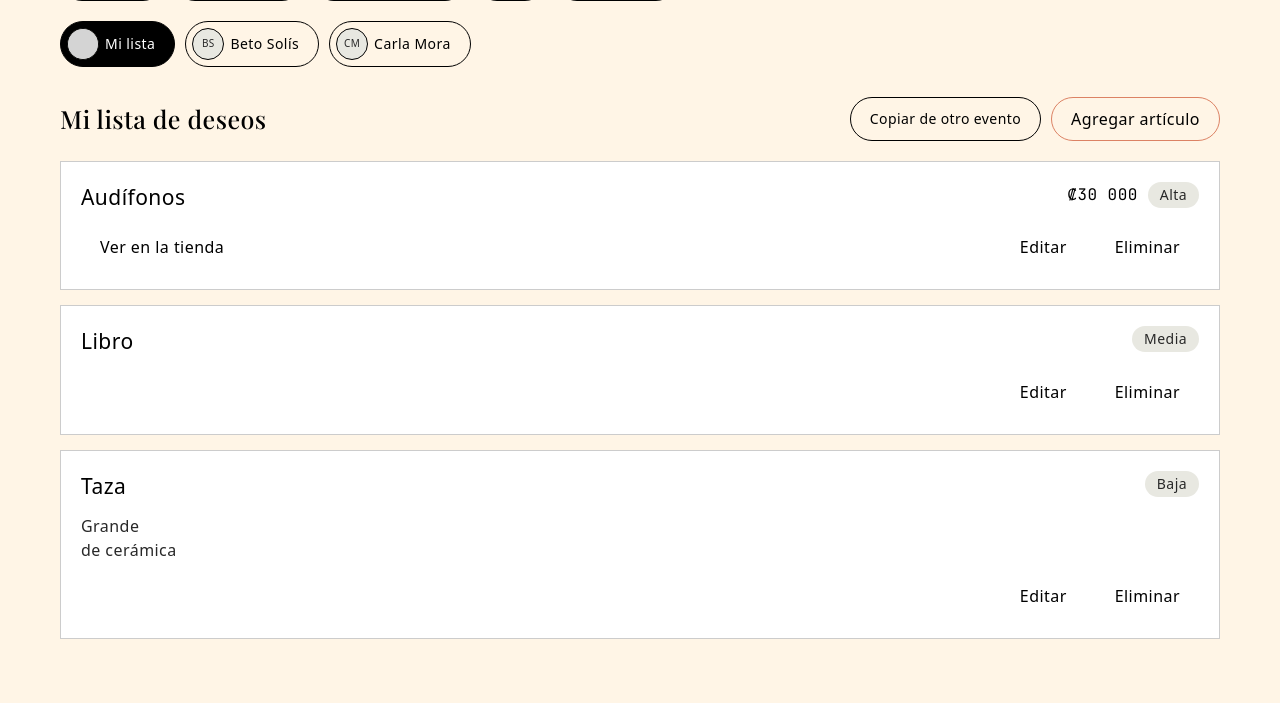
Test: Wishlists tab › owner › deletes after confirming
The image size is (1280, 703).
(page scrolled)
expect the element named "Lista de quién" is shown: met, box [60,20,471,66]
Click the button with aria-label "Eliminar Taza".
click(1147, 596)  # box [1096,574,1199,618]
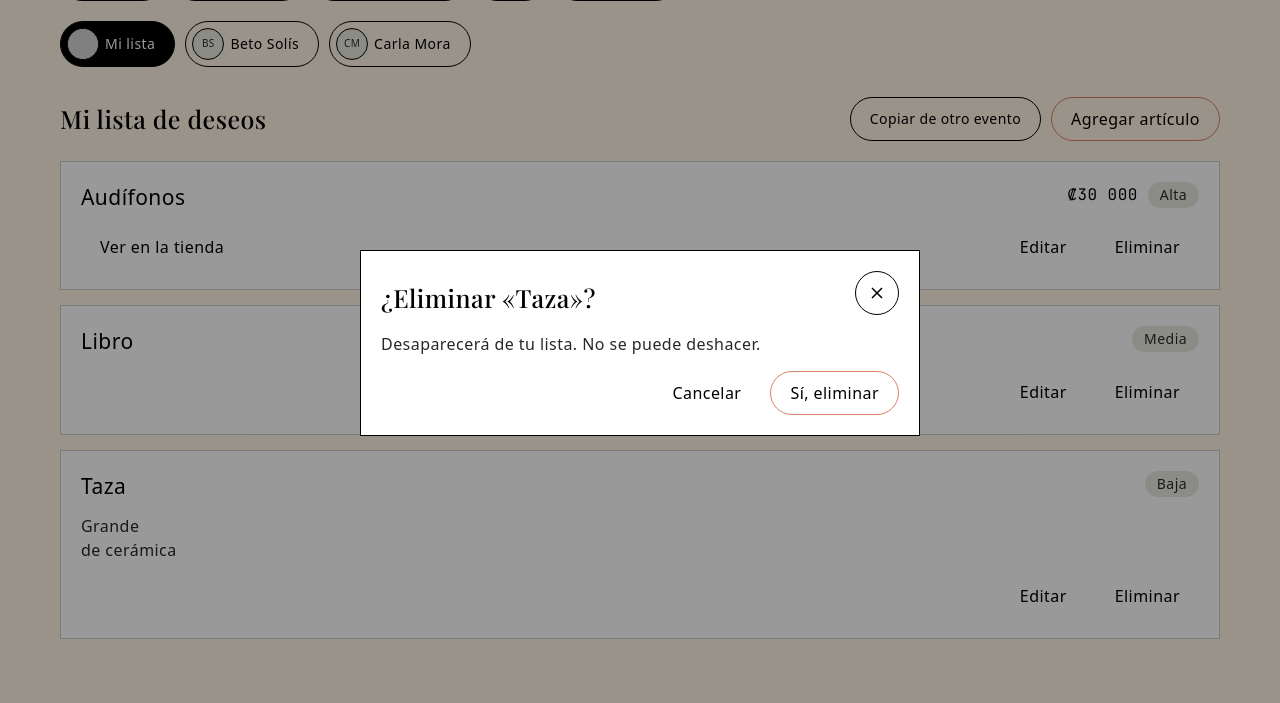
Click the button "Cancelar".
click(707, 393)  # box [653,371,760,415]
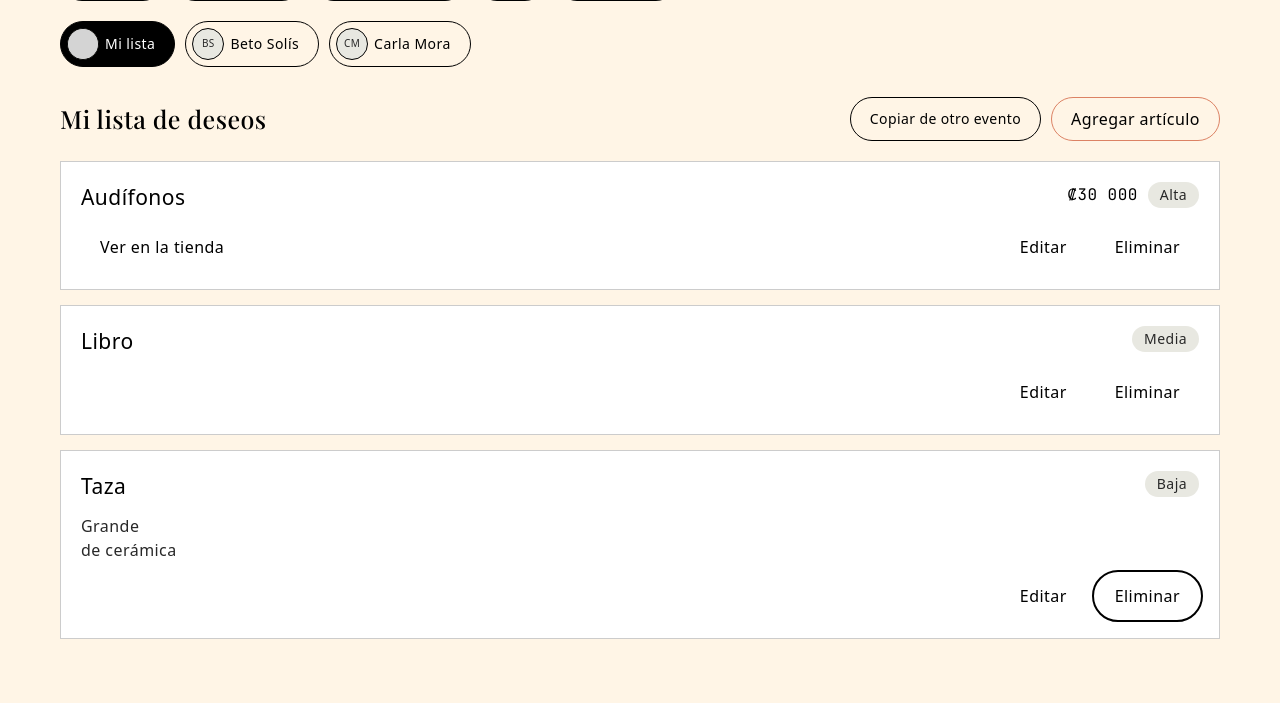
Click the button with aria-label "Eliminar Taza".
click(1147, 596)  # box [1096,574,1199,618]
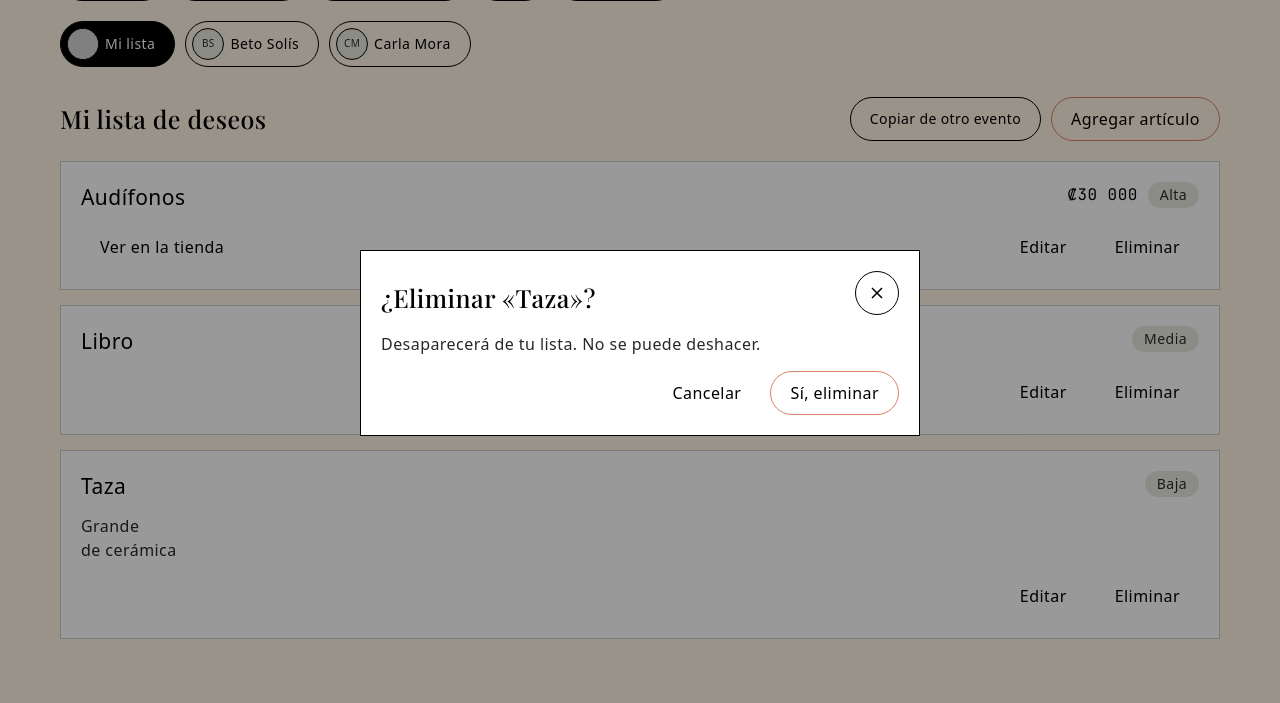
Click the button "Sí, eliminar".
click(835, 393)  # box [770,371,899,415]
(page scrolled)
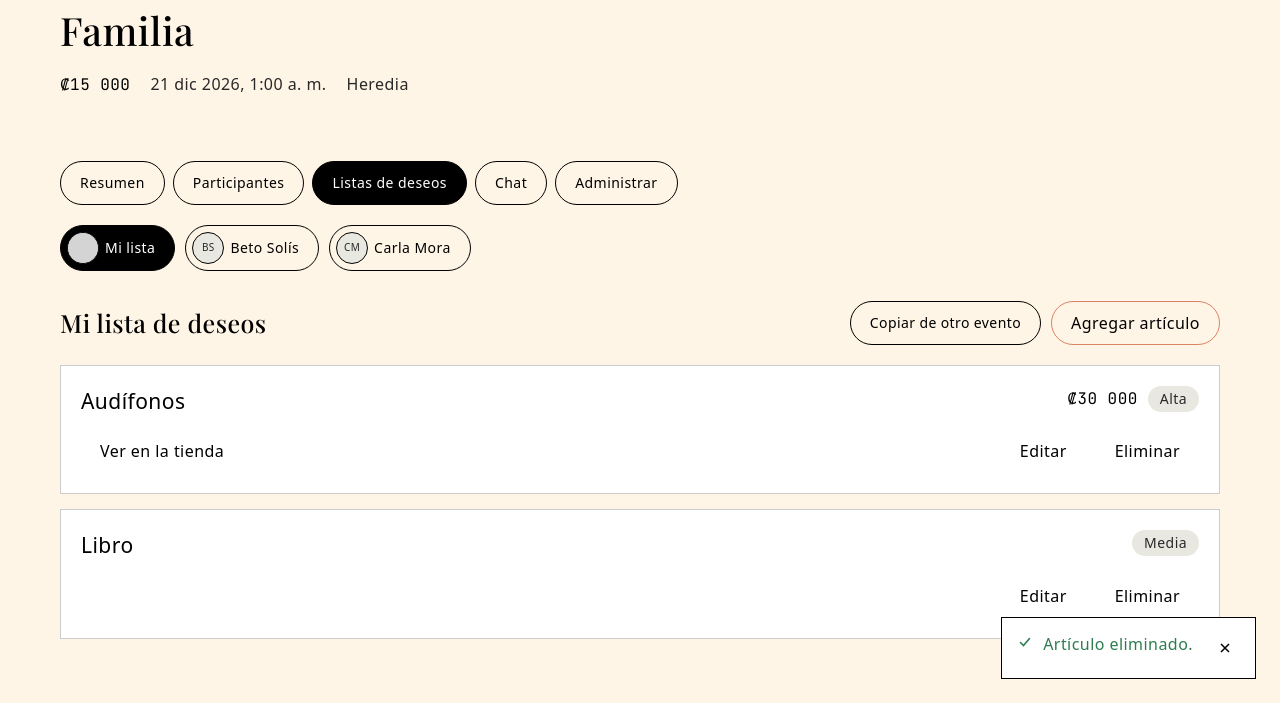
expect the text "Artículo eliminado." is shown: met, box [1043,632,1193,656]
